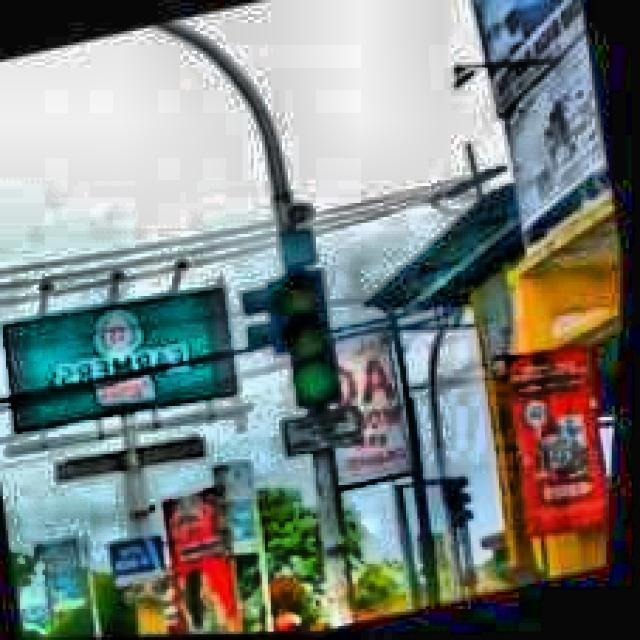green: (275, 265, 357, 412)
